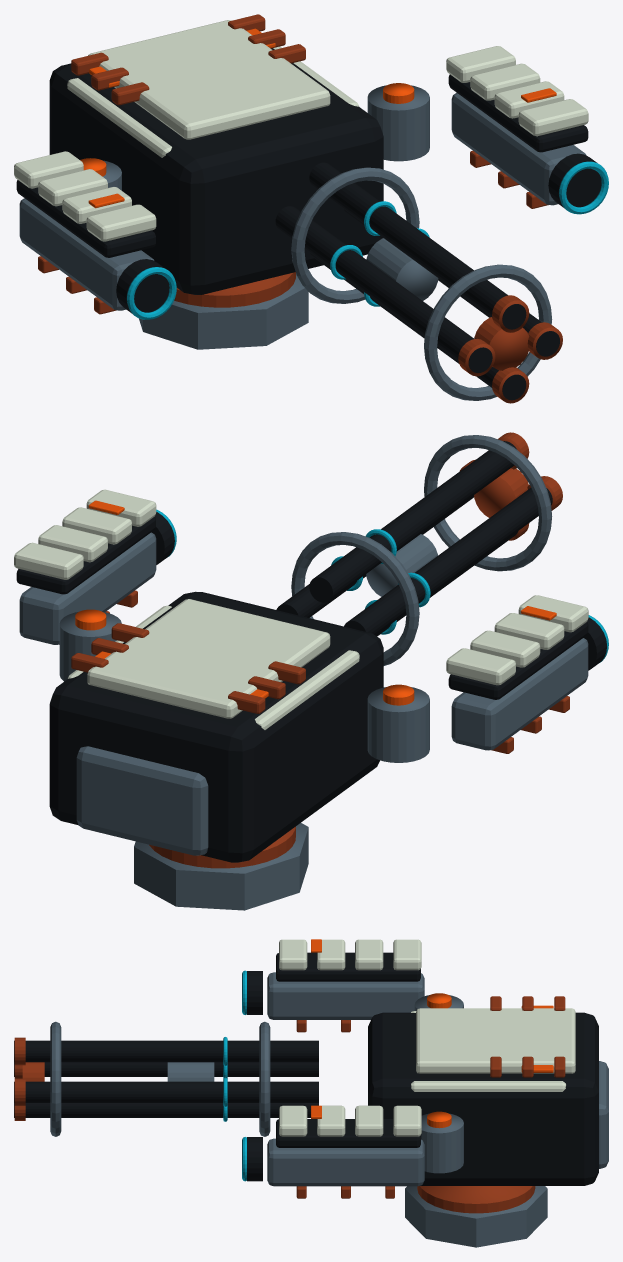
Rendered from M01-016_foldout_rotary_cannon.obj.
The picture shows the model from 3 angles, top to bottom: view 1: azimuth 30°, elevation 25°; view 2: azimuth 150°, elevation 25°; view 3: azimuth 270°, elevation 25°; orthographic projection. The views are drawn at different scales.
Visible parts, largest first — view 1: M01-016_low_profile_main_hull, M01-016_ceramic_dorsal_plate, M01-016_socket_octagonal, M01-016_barrel_2, M01-016_barrel_1, M01-016_RIGHT_beam, M01-016_LEFT_beam, M01-016_rotor_brace_-1.12, M01-016_rotor_brace_-0.27, M01-016_R_hinge_bearing, M01-016_RIGHT_upper_rail, M01-016_LEFT_upper_rail (+26 smaller); view 2: M01-016_low_profile_main_hull, M01-016_ceramic_dorsal_plate, M01-016_rear_electronics, M01-016_socket_octagonal, M01-016_LEFT_beam, M01-016_barrel_1, M01-016_RIGHT_beam, M01-016_barrel_2, M01-016_rotor_brace_-1.12, M01-016_L_hinge_bearing, M01-016_rotor_brace_-0.27, M01-016_LEFT_upper_rail (+17 smaller); view 3: M01-016_low_profile_main_hull, M01-016_ceramic_dorsal_plate, M01-016_RIGHT_beam, M01-016_barrel_1, M01-016_barrel_0, M01-016_LEFT_beam, M01-016_socket_octagonal, M01-016_barrel_3, M01-016_barrel_2, M01-016_socket_lock_ring, M01-016_LEFT_upper_rail, M01-016_RIGHT_upper_rail (+17 smaller).
Part boxes in pixels (x1,y1,x2,y2): M01-016_low_profile_main_hull: [49, 48, 383, 294]; M01-016_ceramic_dorsal_plate: [88, 20, 330, 139]; M01-016_socket_octagonal: [139, 273, 308, 349]; M01-016_barrel_2: [275, 206, 492, 373]; M01-016_barrel_1: [309, 162, 526, 329]; M01-016_RIGHT_beam: [451, 92, 586, 205]; M01-016_LEFT_beam: [19, 198, 154, 310]; M01-016_rotor_brace_-1.12: [424, 264, 552, 400]; M01-016_rotor_brace_-0.27: [291, 167, 419, 303]; M01-016_R_hinge_bearing: [367, 85, 429, 161]; M01-016_RIGHT_upper_rail: [448, 74, 588, 152]; M01-016_LEFT_upper_rail: [16, 180, 155, 257]; M01-016_low_profile_main_hull: [49, 591, 383, 862]; M01-016_ceramic_dorsal_plate: [87, 599, 330, 718]; M01-016_rear_electronics: [76, 746, 208, 855]; M01-016_socket_octagonal: [134, 823, 308, 910]; M01-016_LEFT_beam: [451, 638, 588, 750]; M01-016_barrel_1: [309, 441, 516, 602]; M01-016_RIGHT_beam: [19, 532, 156, 644]; M01-016_barrel_2: [344, 488, 552, 635]; M01-016_rotor_brace_-1.12: [424, 435, 552, 571]; M01-016_L_hinge_bearing: [367, 687, 429, 762]; M01-016_rotor_brace_-0.27: [291, 532, 419, 665]; M01-016_LEFT_upper_rail: [448, 622, 588, 699]; M01-016_low_profile_main_hull: [368, 1012, 598, 1185]; M01-016_ceramic_dorsal_plate: [416, 1008, 575, 1073]; M01-016_RIGHT_beam: [267, 1138, 424, 1186]; M01-016_barrel_1: [14, 1040, 318, 1062]; M01-016_barrel_0: [14, 1081, 318, 1102]; M01-016_LEFT_beam: [267, 972, 424, 1019]; M01-016_socket_octagonal: [405, 1186, 547, 1247]; M01-016_barrel_3: [14, 1103, 318, 1117]; M01-016_barrel_2: [14, 1062, 318, 1076]; M01-016_socket_lock_ring: [417, 1186, 535, 1213]; M01-016_LEFT_upper_rail: [276, 952, 420, 981]; M01-016_RIGHT_upper_rail: [276, 1119, 420, 1147].
Size of the model in its own units: 1.8 by 0.855 by 2.42.
